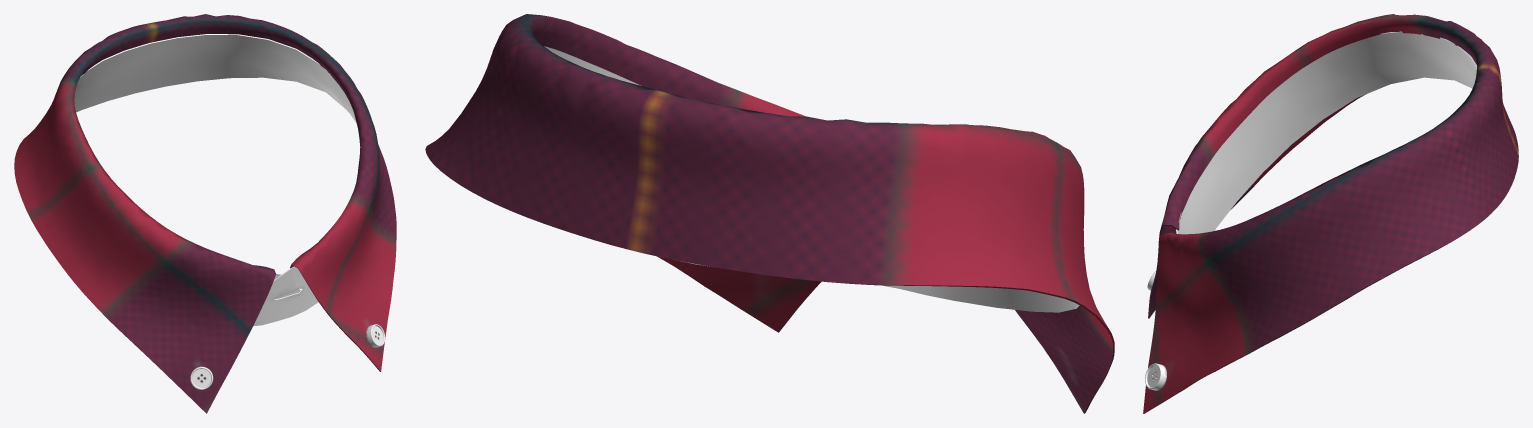
Rendered from collar-button-down.glb.
3 views of the same model, side by side, from view 1: azimuth 30°, elevation 25°; view 2: azimuth 150°, elevation 25°; view 3: azimuth 270°, elevation 25° (orthographic). The views are drawn at different scales.
Parts seen in each view (by area): view 1: Collar_Node, Collar_Stand_Node, MatShape_16804_Node, MatShape_16796_Node; view 2: Collar_Node, Collar_Stand_Node; view 3: Collar_Node, Collar_Stand_Node, MatShape_16796_Node.
Part boxes in pixels (left/top/right/bottom): Collar_Node: left=14, top=14, right=396, bottom=413; Collar_Stand_Node: left=74, top=34, right=356, bottom=326; MatShape_16804_Node: left=190, top=366, right=213, bottom=389; MatShape_16796_Node: left=366, top=324, right=385, bottom=347; Collar_Node: left=425, top=14, right=1114, bottom=413; Collar_Stand_Node: left=544, top=46, right=1079, bottom=312; Collar_Node: left=1143, top=14, right=1518, bottom=413; Collar_Stand_Node: left=1176, top=31, right=1476, bottom=234; MatShape_16796_Node: left=1145, top=363, right=1166, bottom=390.
Size of the model in its own units: 0.1729 by 0.126 by 0.1413.
3 materials, 3 textured.
